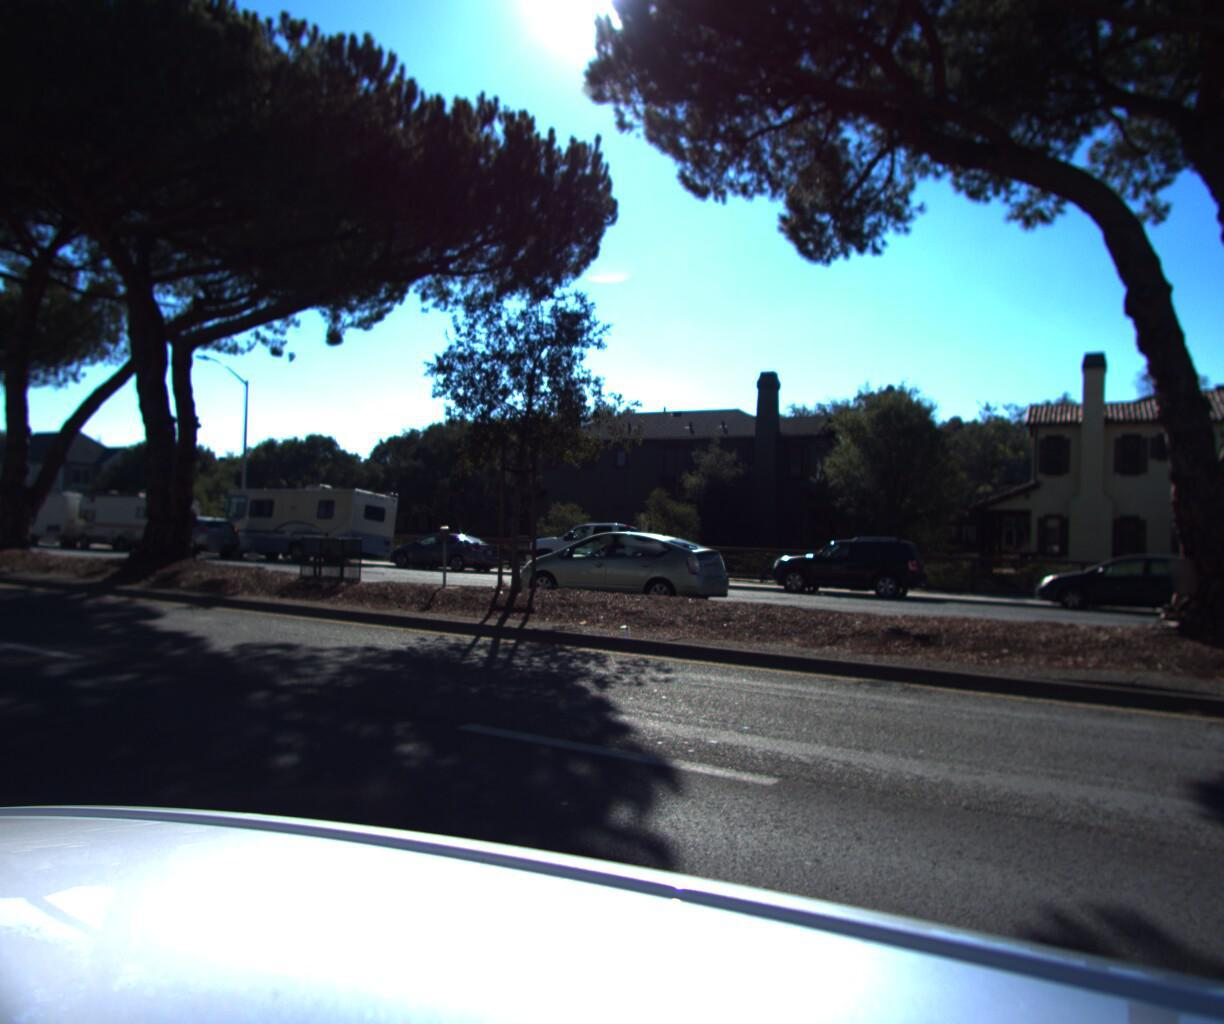car: (500, 521, 742, 616), (1022, 539, 1224, 621), (514, 515, 714, 593), (758, 528, 931, 602), (380, 531, 507, 579), (131, 516, 242, 561), (0, 510, 25, 546)
other_vehicle: (212, 483, 403, 569), (69, 486, 223, 555), (0, 486, 122, 553)
